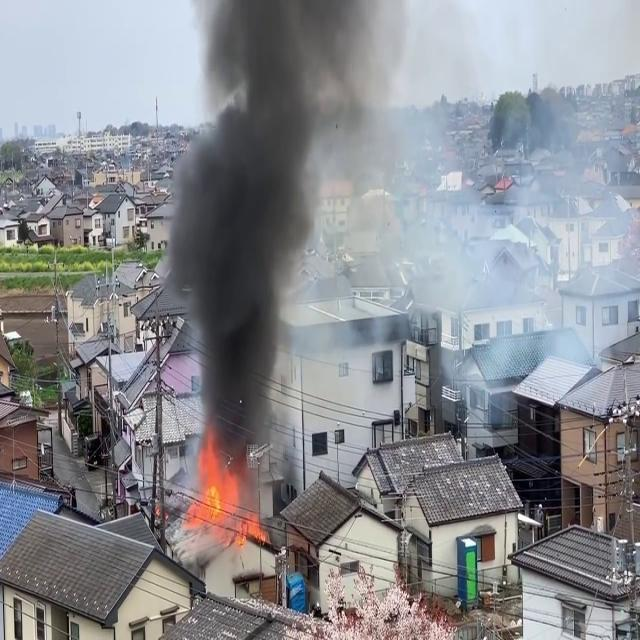Fire: (184, 446, 266, 544)
Smoke: (377, 9, 639, 402), (155, 0, 361, 477)
